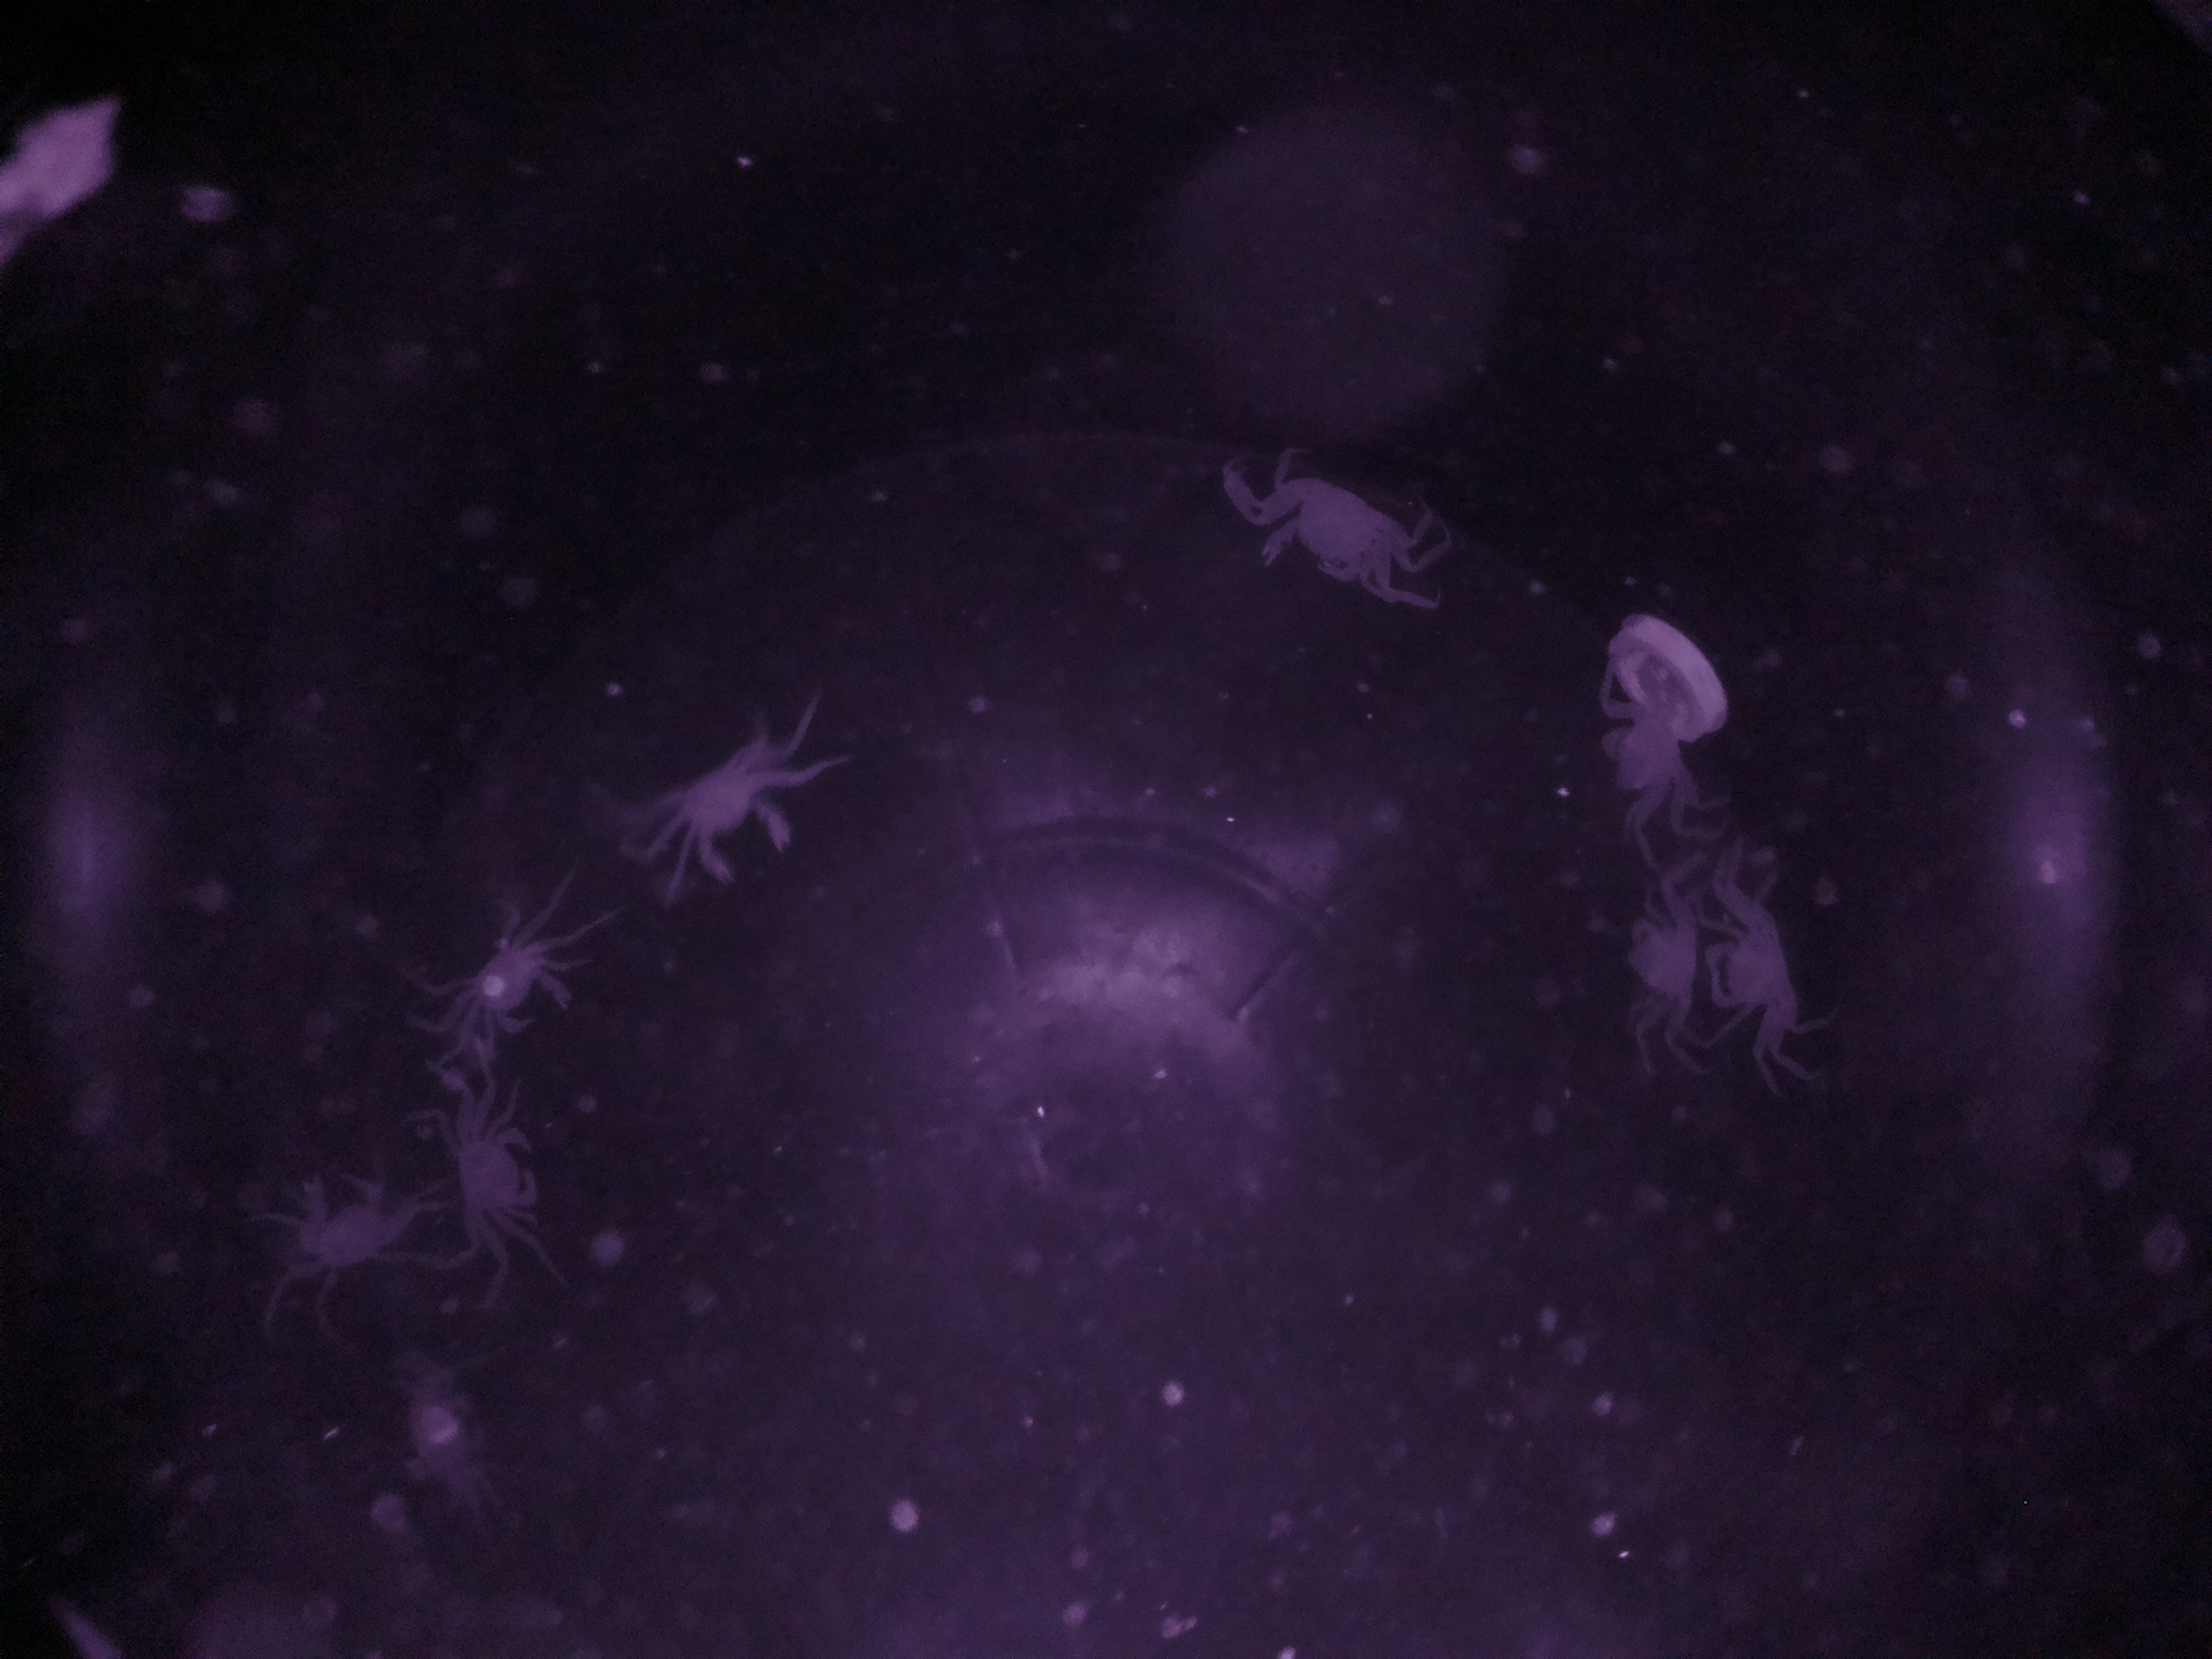Crab: (1230, 457, 1446, 619), (1712, 842, 1843, 1089), (644, 720, 803, 911), (1604, 831, 1712, 1061), (427, 1073, 543, 1251), (444, 913, 592, 1051)
